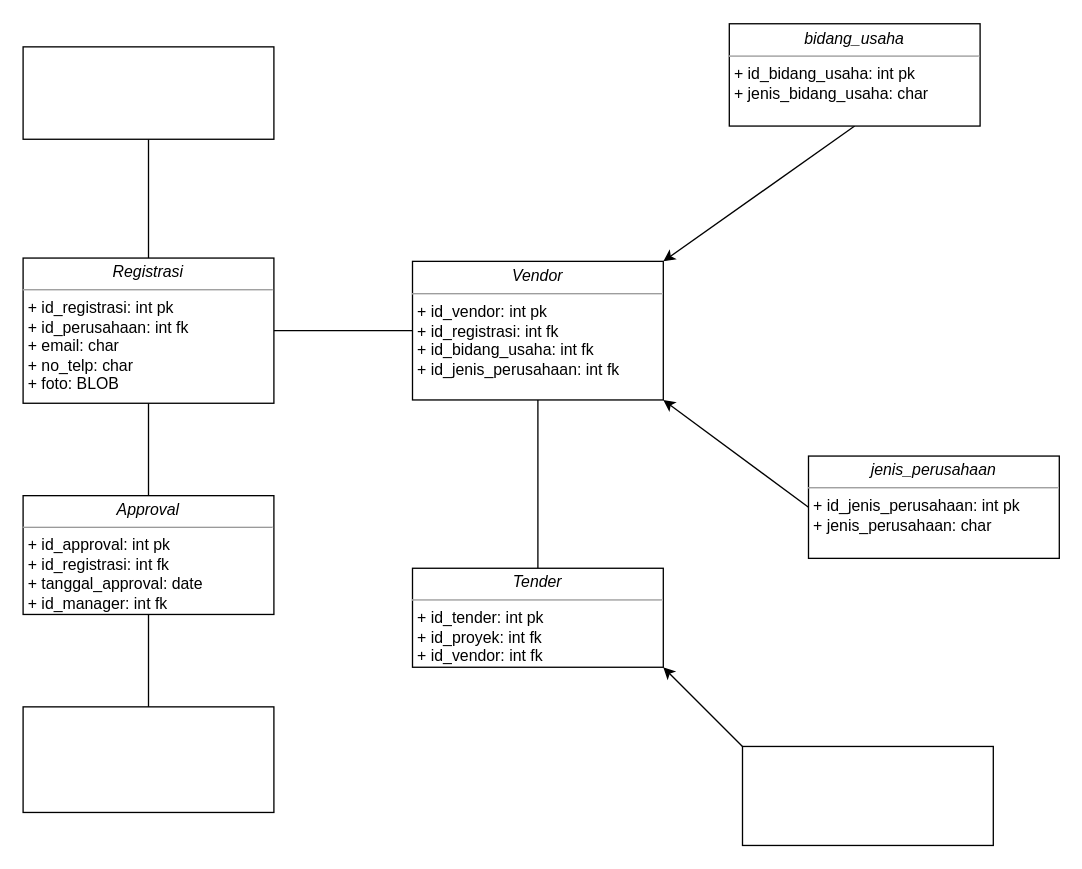
Image size: 1082x869. Some labels were removed from this diagram. Each missing label, with the centre of its shape:
"Calon_Vendor + id_perusahaan: int pk + nama: char" belongs at [148,92].
"Manager_Logistic + id_manager: int pk + nama: char" belongs at [148,759].
"Proyek + id_proyek: int pk + nama_proyek: char" belongs at [867,795].
